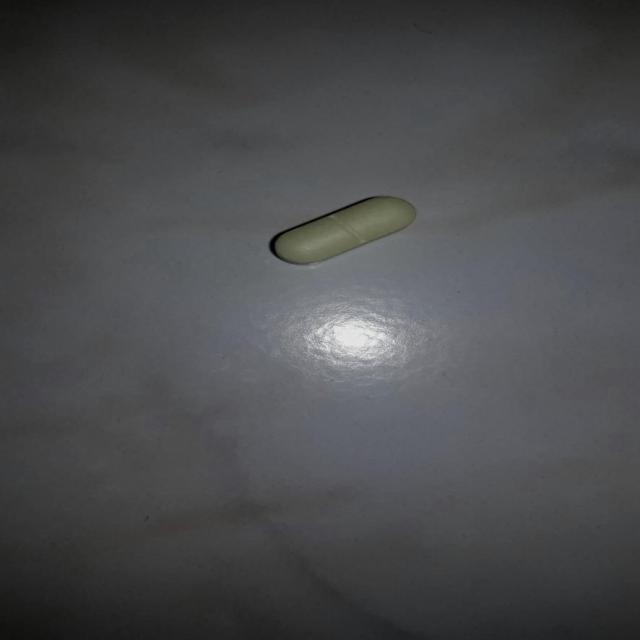pill: (266, 188, 422, 268)
